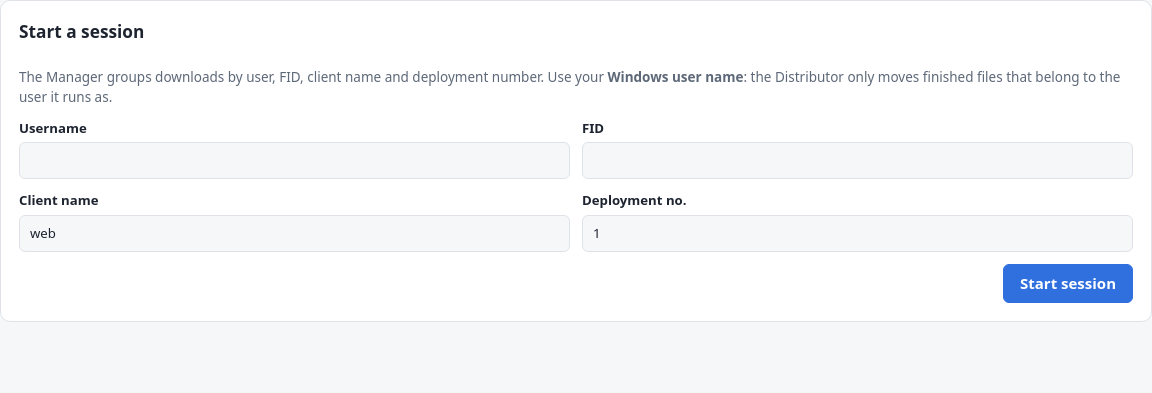
Test: SessionForm › shows the Manager error
The width and height of the screenshot is (1152, 393).
Type "mjk" into the field labelled "Username". click: (294,161)
box: [19,142,570,179]
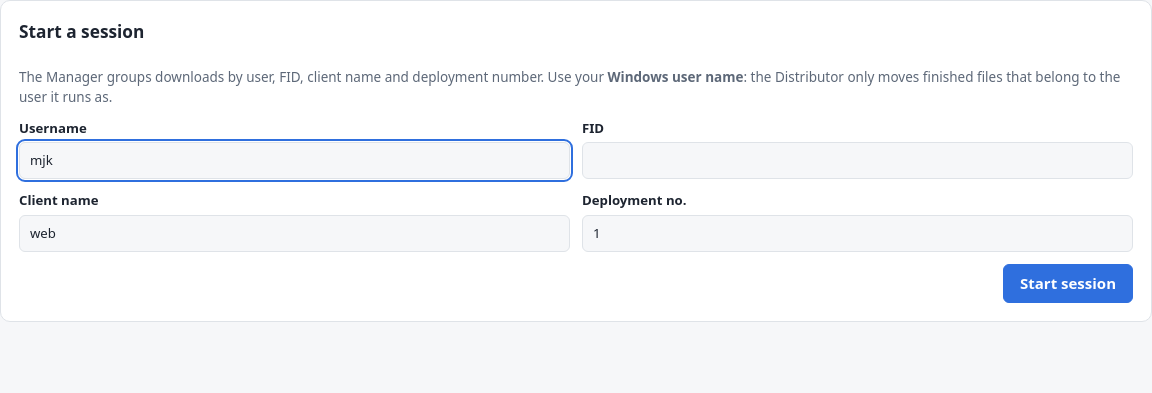
Type "F100" into the field labelled "FID". click: (858,161)
box: [582,142,1133,179]
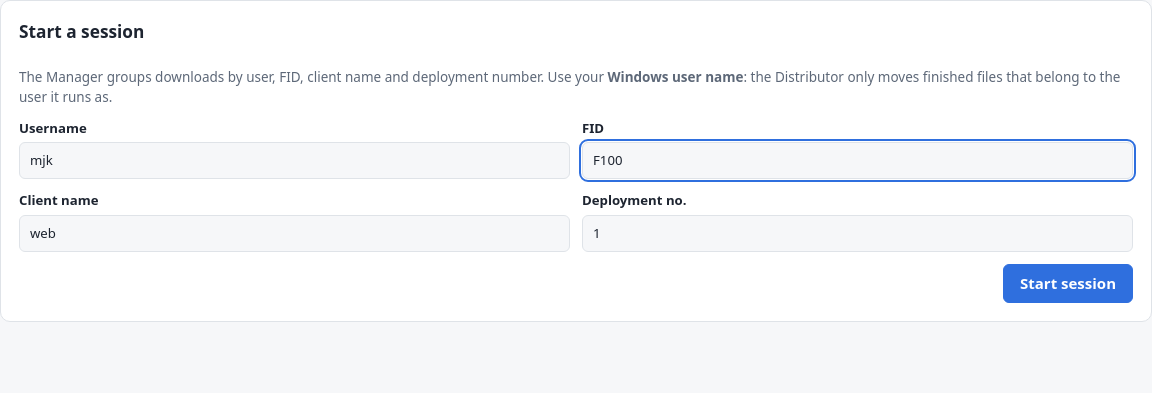
Click the button "Start session". click: (1068,284)
box: [1003,264,1133,303]
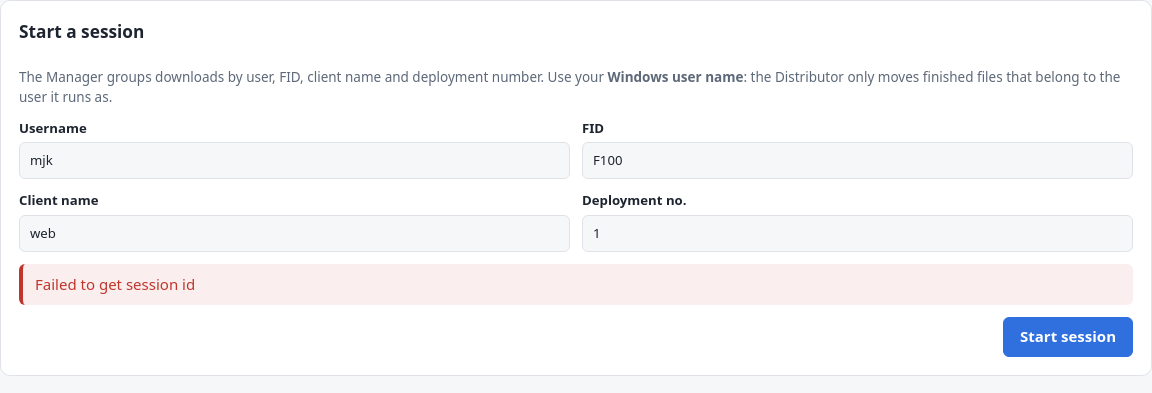
Expected: the message reads "Failed to get session id", [35,274,195,294]
